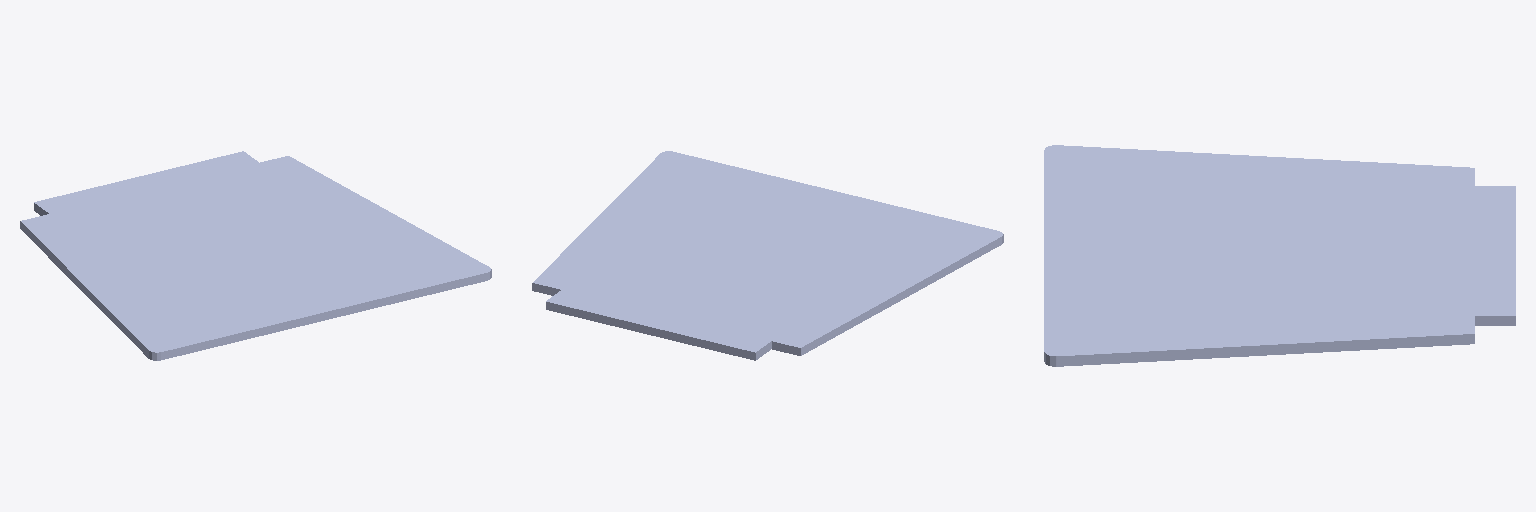
robot.urdf — part1.SLDPRT:
<?xml version="1.0" encoding="utf-8"?>
<!-- This URDF was automatically created by SolidWorks to URDF Exporter! Originally created by [author] ([email redacted]) 
     Commit Version: 1.5.1-0-g916b5db  Build Version: 1.5.7152.31018
     For more information, please see http://wiki.ros.org/sw_urdf_exporter -->
<robot
  name="part1.SLDPRT">
  <link
    name="part1.SLDPRT">
    <inertial>
      <origin
        xyz="-4.5591E-18 -0.012314 0.005"
        rpy="0 0 0" />
      <mass
        value="1.556" />
      <inertia
        ixx="0.021045"
        ixy="-1.1594E-18"
        ixz="6.9483E-20"
        iyy="0.019376"
        iyz="5.4332E-20"
        izz="0.040395" />
    </inertial>
    <visual>
      <origin
        xyz="0 0 0"
        rpy="0 0 0" />
      <geometry>
        <mesh
          filename="package://part1.SLDPRT/meshes/part1.SLDPRT.STL" />
      </geometry>
      <material
        name="">
        <color
          rgba="0.79216 0.81961 0.93333 1" />
        <texture
          filename="package://part1.SLDPRT/textures/" />
      </material>
    </visual>
    <collision>
      <origin
        xyz="0 0 0"
        rpy="0 0 0" />
      <geometry>
        <mesh
          filename="package://part1.SLDPRT/meshes/part1.SLDPRT.STL" />
      </geometry>
    </collision>
  </link>
</robot>

--- What the picture shows (computed from the rendered views, not written in the file) ---
3 views of the same robot in one strip: view 1: azimuth 30°, elevation 25°; view 2: azimuth 150°, elevation 25°; view 3: azimuth 270°, elevation 25° (orthographic).
Model part1.SLDPRT with 1 links and 0 joints (none), rooted at part1.SLDPRT, posed every joint at zero.
Visible links, largest first — view 1: part1.SLDPRT; view 2: part1.SLDPRT; view 3: part1.SLDPRT.
Boxes of the visible links, x1=… form: part1.SLDPRT: x1=20, y1=151, x2=491, y2=360; part1.SLDPRT: x1=532, y1=151, x2=1003, y2=360; part1.SLDPRT: x1=1044, y1=145, x2=1515, y2=366.
Bounding box of the posed robot: 0.4354 × 0.41 × 0.01 m (x, y, z).
Meshes: 1 distinct files referenced, 1 mesh visuals loaded (1 binary STL).